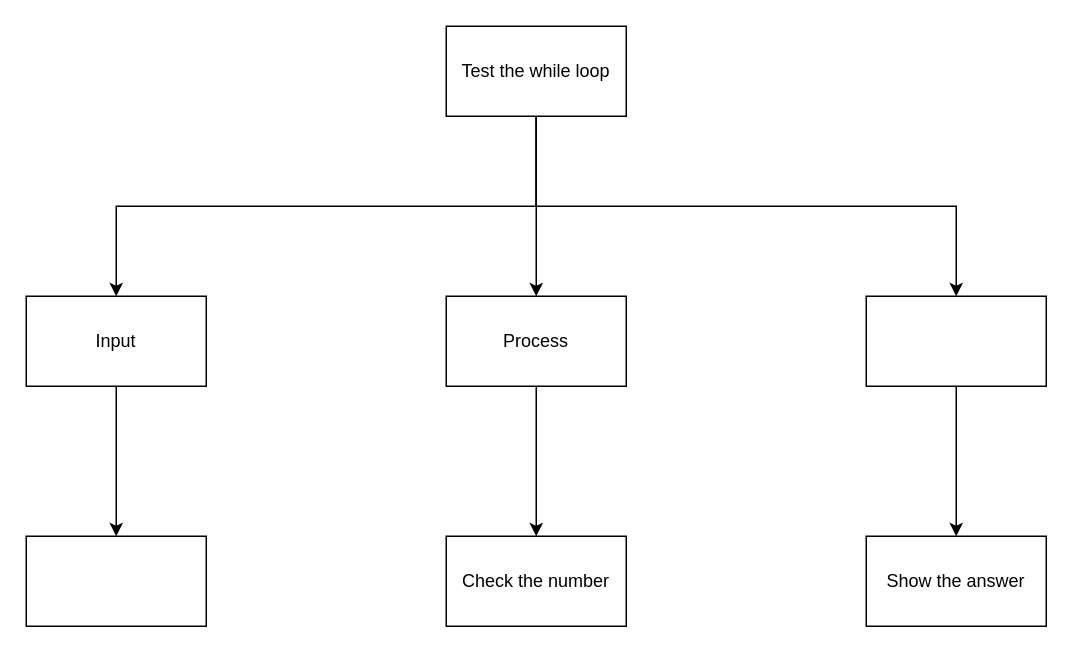
Some shapes in this 1073 by 653 pixel diagram are drawn without their labels. Here are the shapes that lost their labels. From the top down, the centre of each, then its label:
At pixel 955 340: "Output".
At pixel 115 580: "Get a positive number".
